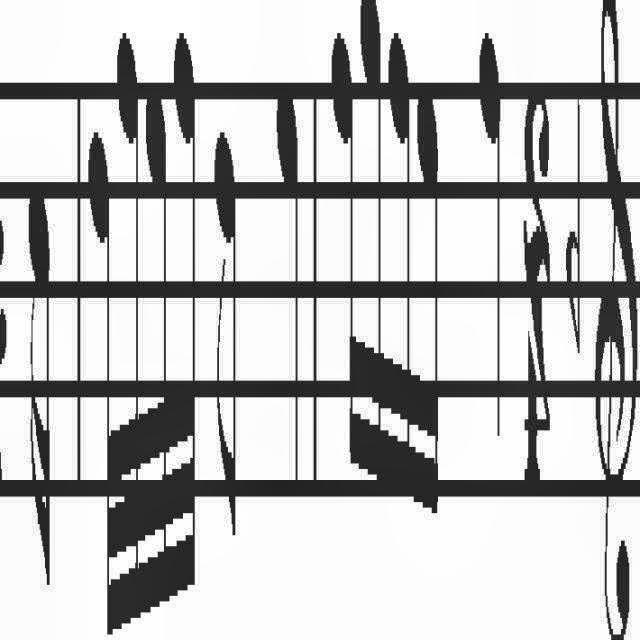Bass-clef: (595, 0, 640, 640), (639, 0, 640, 640)
Bemol: (564, 49, 584, 394)
Eighth-note: (214, 28, 238, 584)
Quarter-note: (474, 28, 508, 458), (274, 83, 300, 505)
Sixteenth-note: (385, 27, 415, 529), (411, 55, 441, 541), (358, 1, 384, 520), (26, 143, 56, 585), (332, 27, 358, 477)
